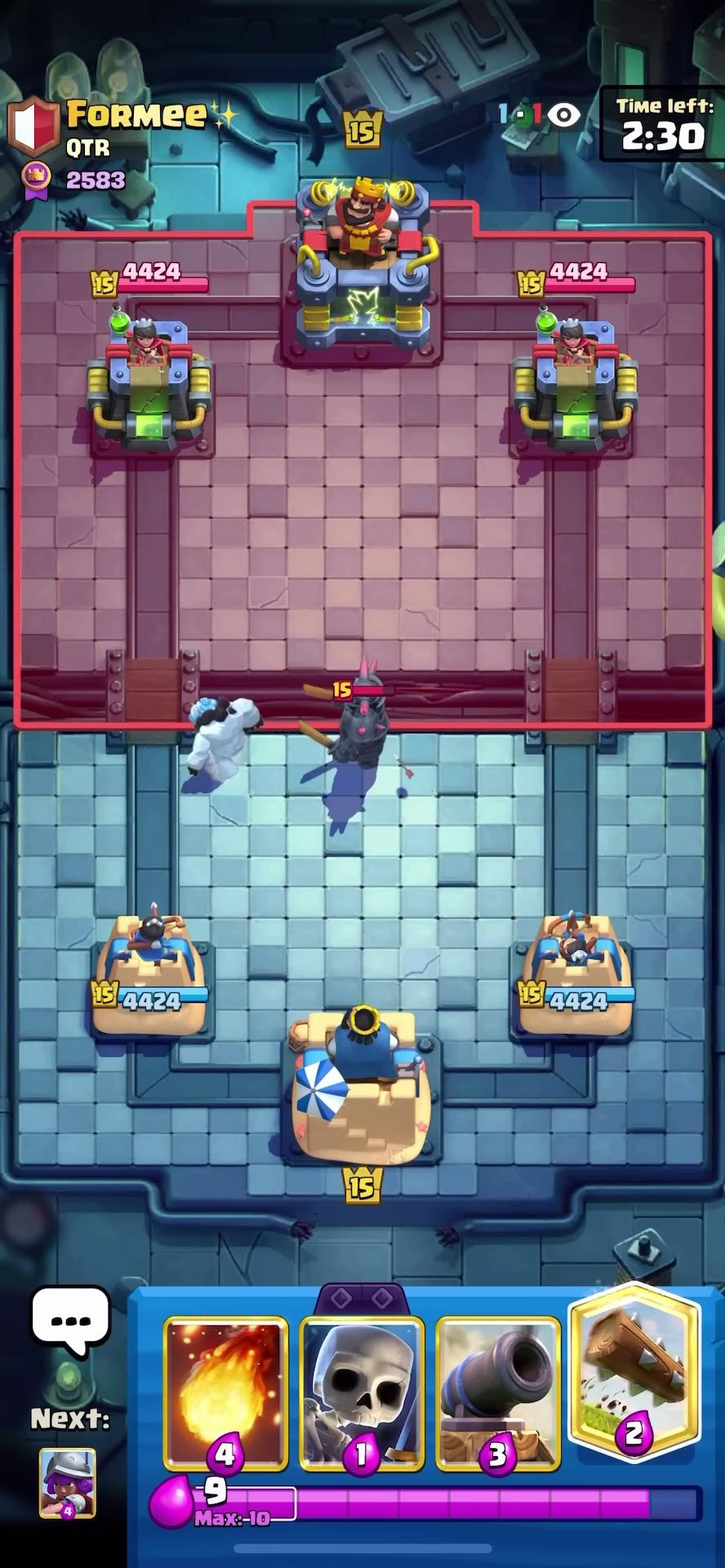ice_golem: (173, 694, 276, 786)
